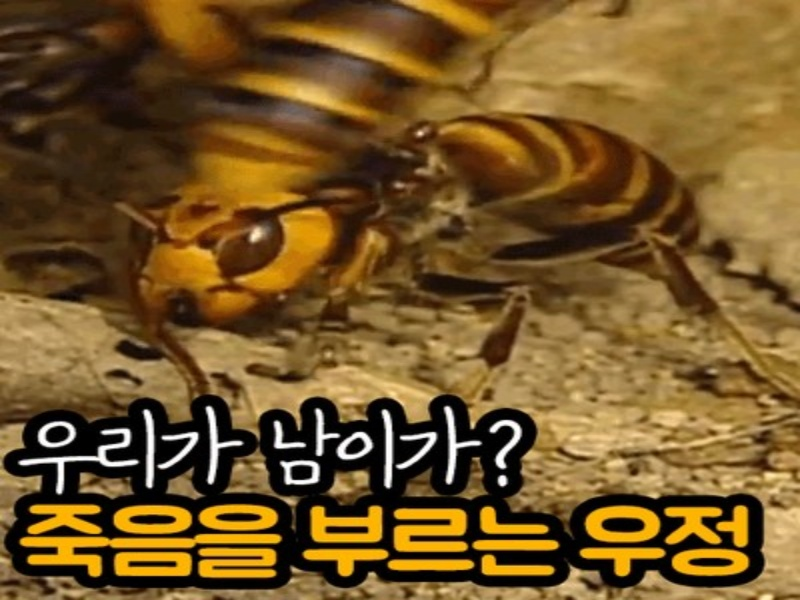asian_giant_hornet: (136, 110, 718, 350), (200, 2, 502, 198)
